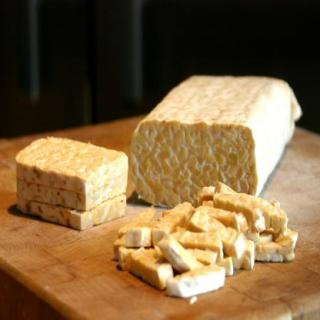Tempe: (131, 74, 304, 212), (13, 136, 131, 233)
